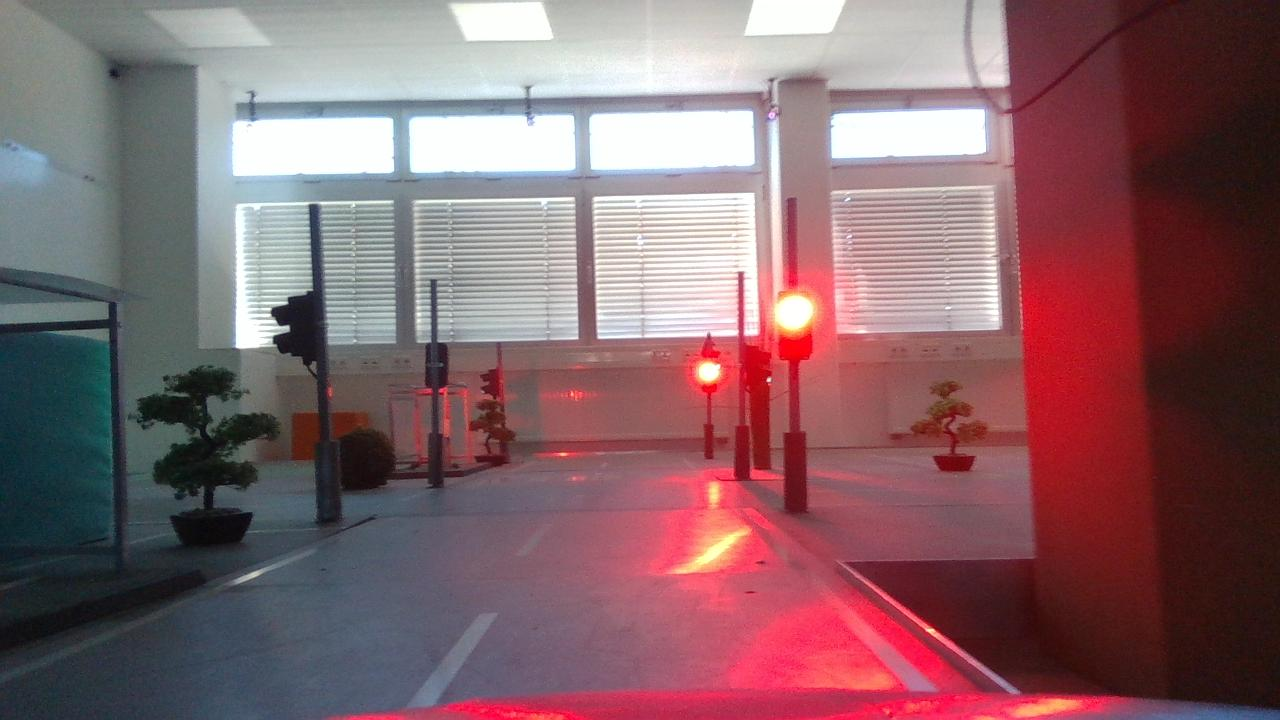traffic_light_red: (765, 275, 831, 368)
